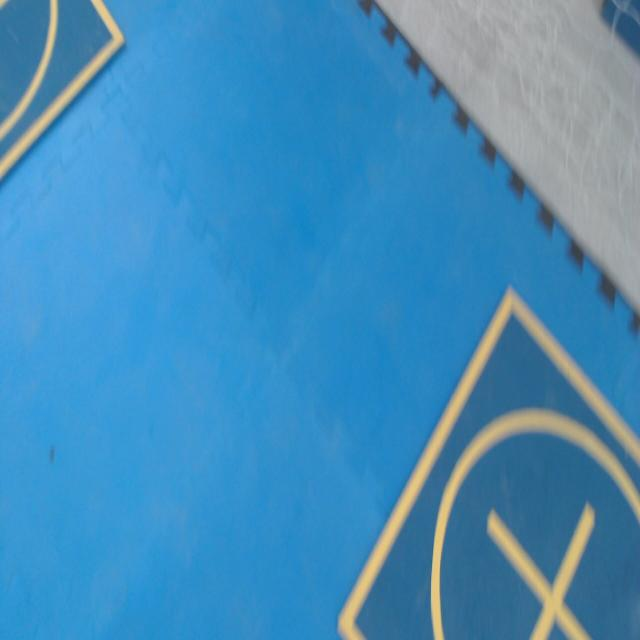base_pouso: (335, 281, 640, 639), (0, 0, 128, 186)
